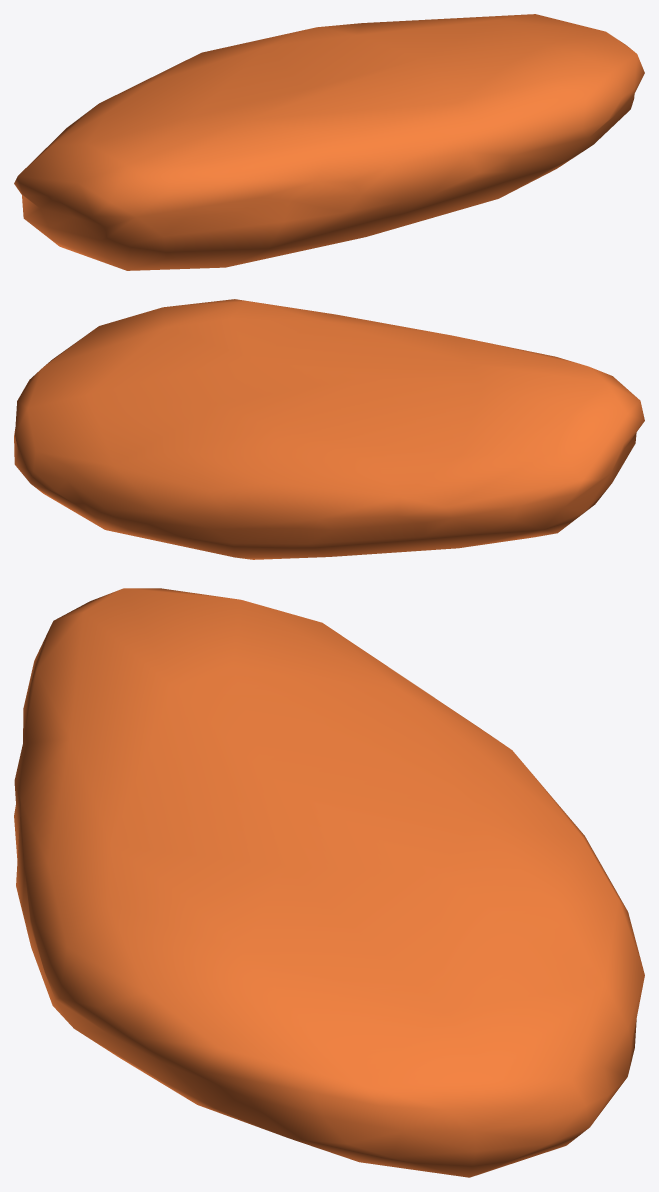
Rendered from Rock8.fbx.
The picture shows the model from 3 angles, top to bottom: view 1: azimuth 30°, elevation 25°; view 2: azimuth 150°, elevation 25°; view 3: azimuth 270°, elevation 25°; orthographic projection. The views are drawn at different scales.
Parts seen in each view (by area): view 1: pasted__Cube.087; view 2: pasted__Cube.087; view 3: pasted__Cube.087.
Boxes of the visible parts, x1,y1,x2,y2 form: pasted__Cube.087: (14, 14, 644, 270); pasted__Cube.087: (14, 299, 644, 559); pasted__Cube.087: (14, 588, 644, 1177).
Size of the model in its own units: 172 by 45.21 by 102.
